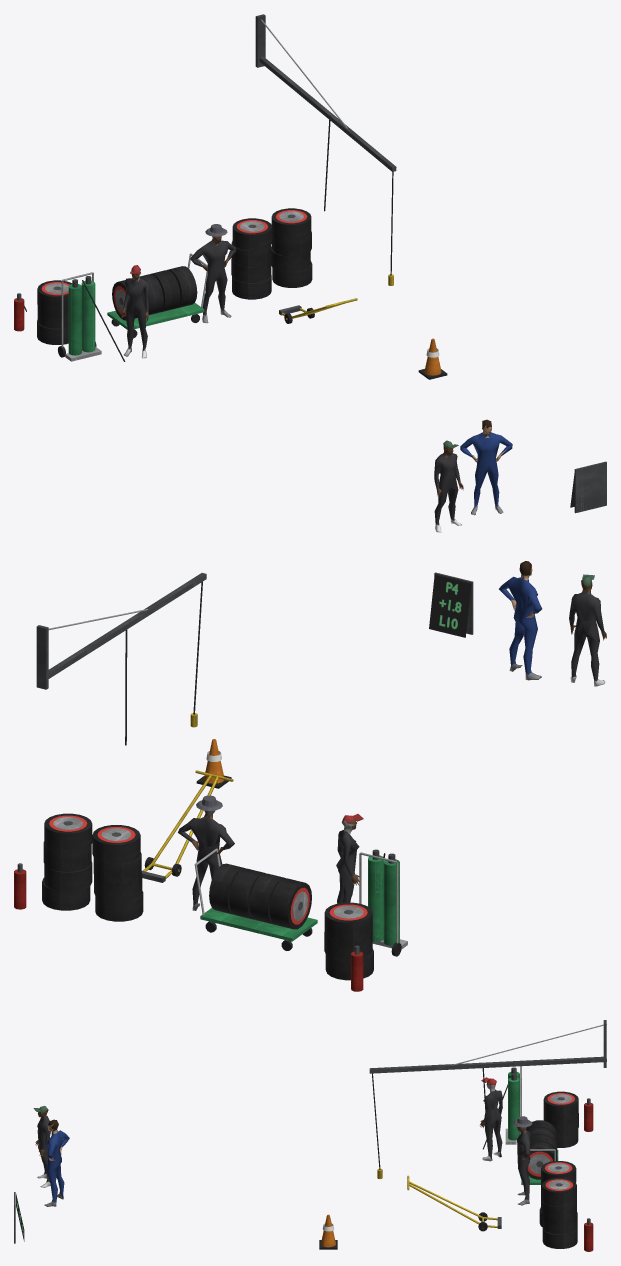
File: pit_kit_2.glb
3 renders of one model, top to bottom at view 1: azimuth 30°, elevation 25°; view 2: azimuth 150°, elevation 25°; view 3: azimuth 270°, elevation 25°, orthographic. The views are drawn at different scales.
Visible parts, largest first — view 1: pit_kit_2, pit_kit_2 crew; view 2: pit_kit_2, pit_kit_2 crew; view 3: pit_kit_2, pit_kit_2 crew.
Boxes of the visible parts, box(x1,y1,x2,y2) form: pit_kit_2: box(14, 14, 606, 513); pit_kit_2 crew: box(121, 224, 512, 532); pit_kit_2: box(14, 572, 473, 991); pit_kit_2 crew: box(178, 561, 606, 910); pit_kit_2: box(14, 1020, 606, 1251); pit_kit_2 crew: box(33, 1077, 532, 1206).
Size of the model in its own units: 5.71 by 4.66 by 11.5.
13 materials, 9 textured.
